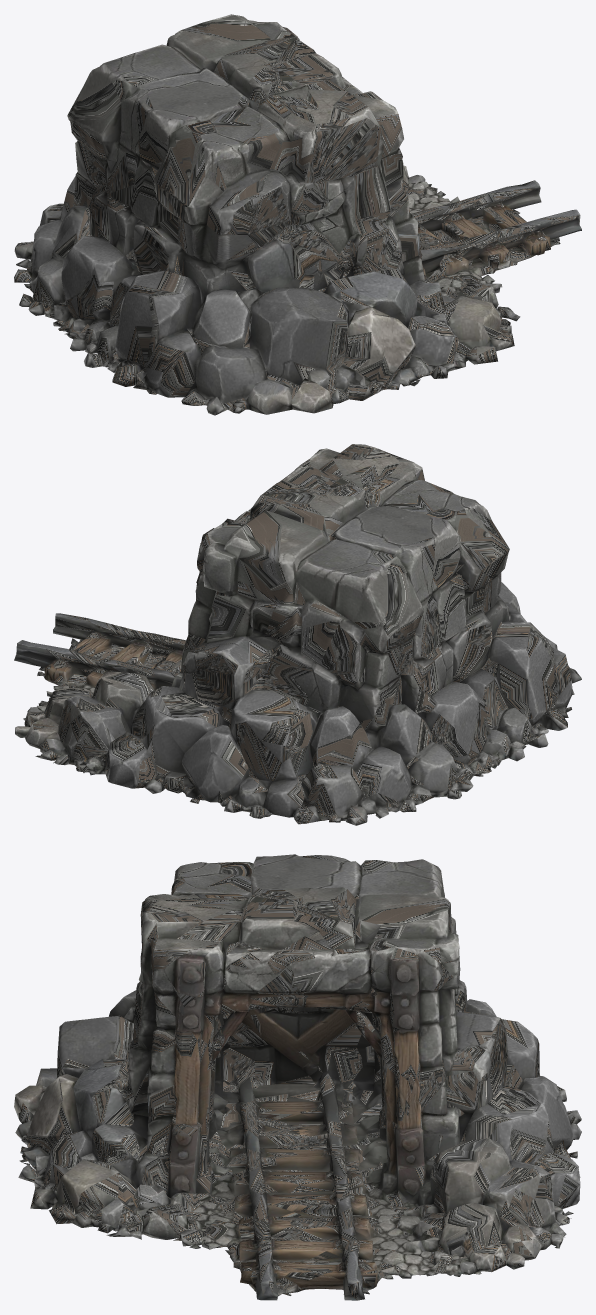
The model's file is stone_mine_tunnel_07.glb.
The picture shows the model from 3 angles, top to bottom: view 1: azimuth 30°, elevation 25°; view 2: azimuth 150°, elevation 25°; view 3: azimuth 270°, elevation 25°; orthographic projection. The views are drawn at different scales.
Parts seen in each view (by area): view 1: tripo_node_d15878db-62b9-4a9c-8998-18582dd97af8; view 2: tripo_node_d15878db-62b9-4a9c-8998-18582dd97af8; view 3: tripo_node_d15878db-62b9-4a9c-8998-18582dd97af8.
Part boxes in pixels (x1,y1,x2,y2): tripo_node_d15878db-62b9-4a9c-8998-18582dd97af8: (14, 14, 581, 415); tripo_node_d15878db-62b9-4a9c-8998-18582dd97af8: (14, 444, 581, 825); tripo_node_d15878db-62b9-4a9c-8998-18582dd97af8: (14, 854, 581, 1300).
Size of the model in its own units: 0.981 by 0.4416 by 0.8808.
1 material, 1 textured.
